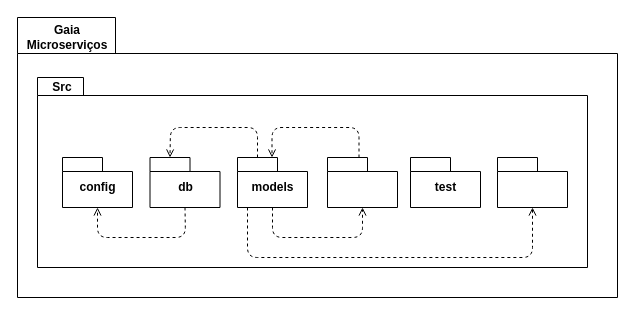
Image size: 635x315. Some labels were removed from this diagram. The shapes that lost their labels are listed below. From the top down, each one's centre as x and y in pixels, then its label:
[362,182]: requests
[532,182]: utils
